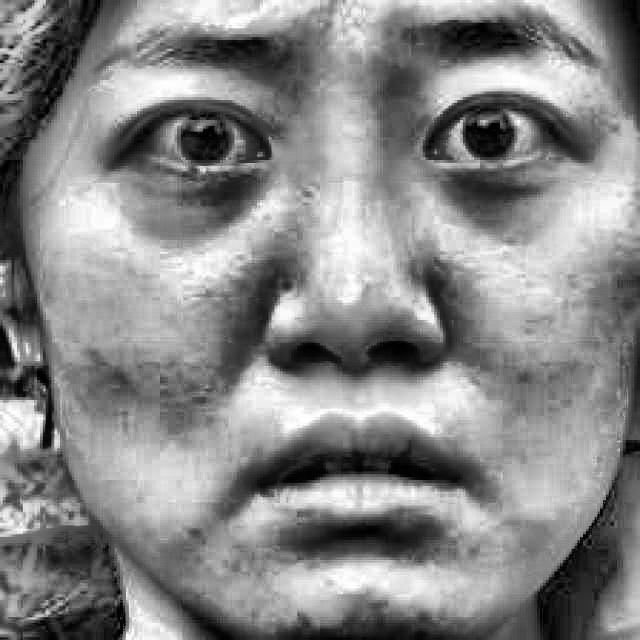fear: (74, 0, 588, 591)
